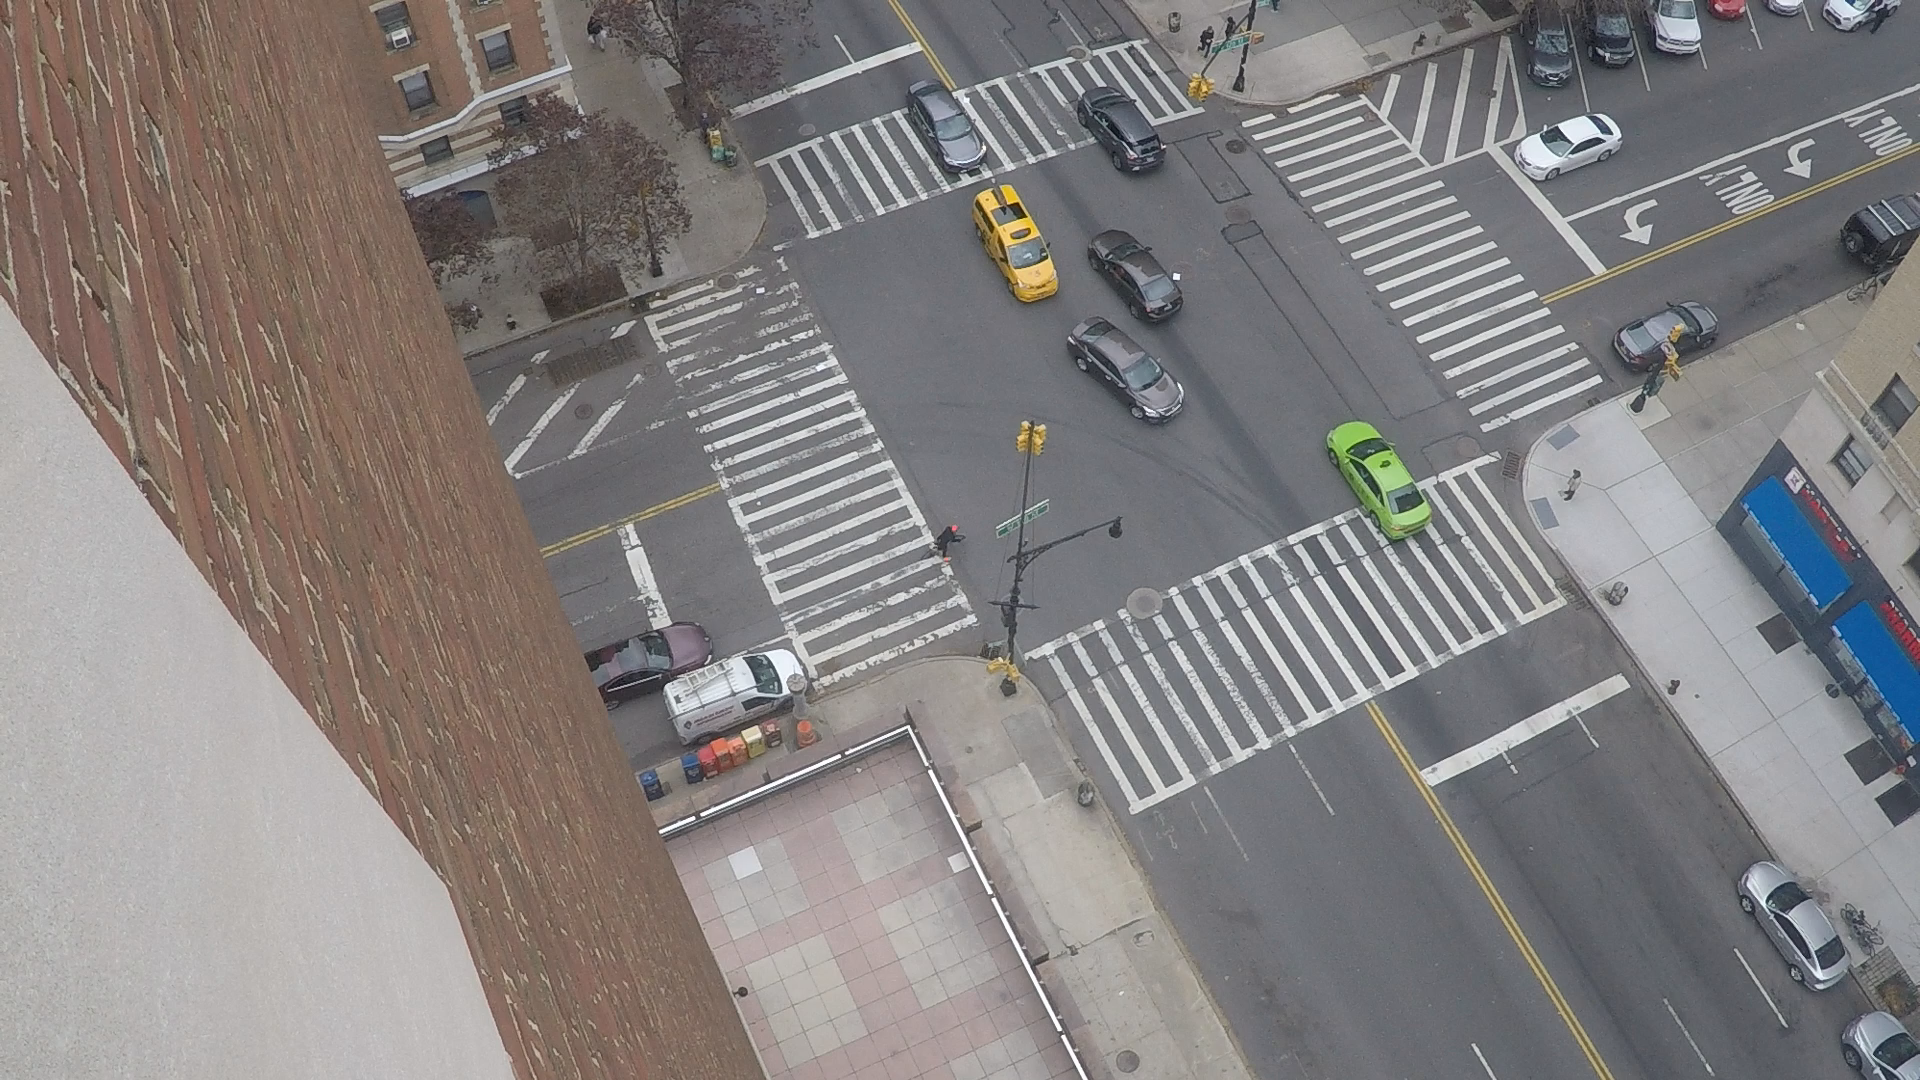Car: (1642, 1, 1652, 38), (1110, 392, 1126, 406), (1916, 191, 1919, 209), (1131, 314, 1139, 319), (1526, 48, 1527, 64), (1325, 437, 1327, 447), (983, 239, 985, 244), (1112, 154, 1113, 164)
Pedestrian: (592, 15, 596, 19), (948, 557, 951, 558)
